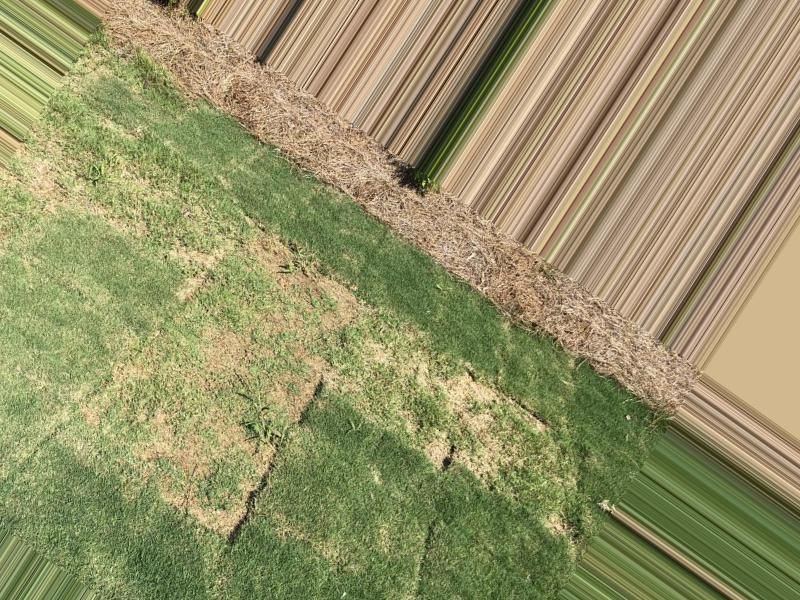patch: (261, 237, 352, 331), (170, 404, 228, 523), (203, 331, 286, 392), (456, 377, 504, 433), (32, 177, 72, 209)
